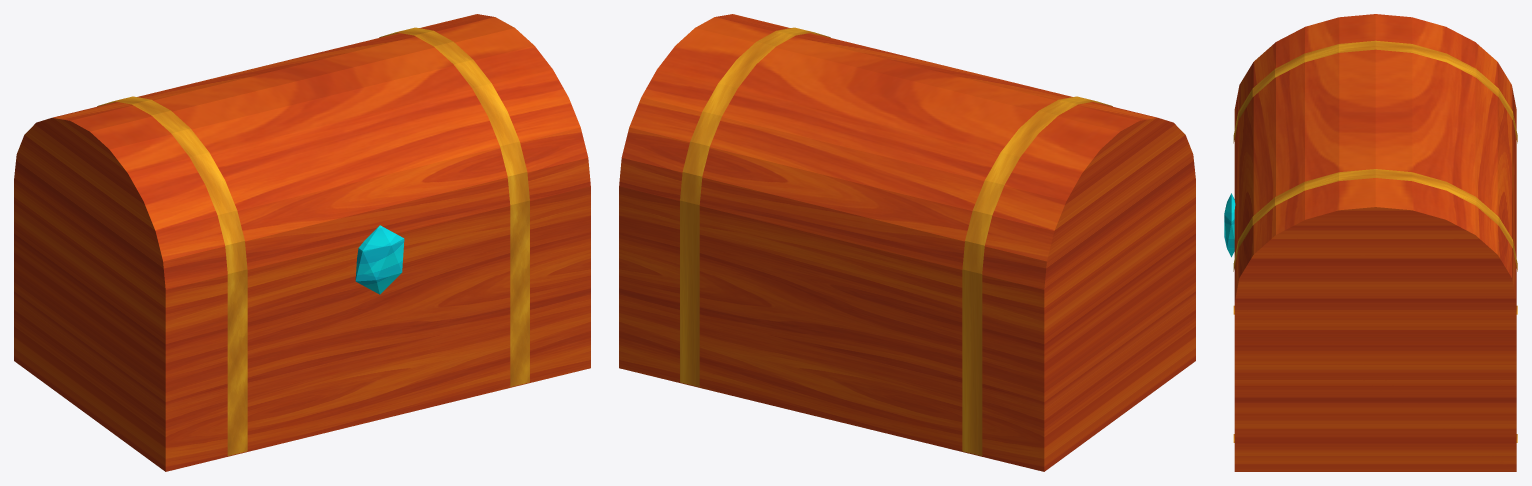
The model's file is treasure_chest-BKnp4evY.glb.
The picture shows the model from 3 angles, left to right: view 1: azimuth 30°, elevation 25°; view 2: azimuth 150°, elevation 25°; view 3: azimuth 270°, elevation 25°; orthographic projection. The views are drawn at different scales.
Parts seen in each view (by area): view 1: HI_treasure_chest; view 2: HI_treasure_chest; view 3: HI_treasure_chest.
Boxes of the visible parts, x1,y1,x2,y2 form: HI_treasure_chest: [14, 14, 590, 471]; HI_treasure_chest: [619, 14, 1195, 471]; HI_treasure_chest: [1224, 14, 1517, 471].
Bounding box in the file's own units: 2.8 × 1.8 × 1.8.
Materials: 4 (4 with a texture image).
